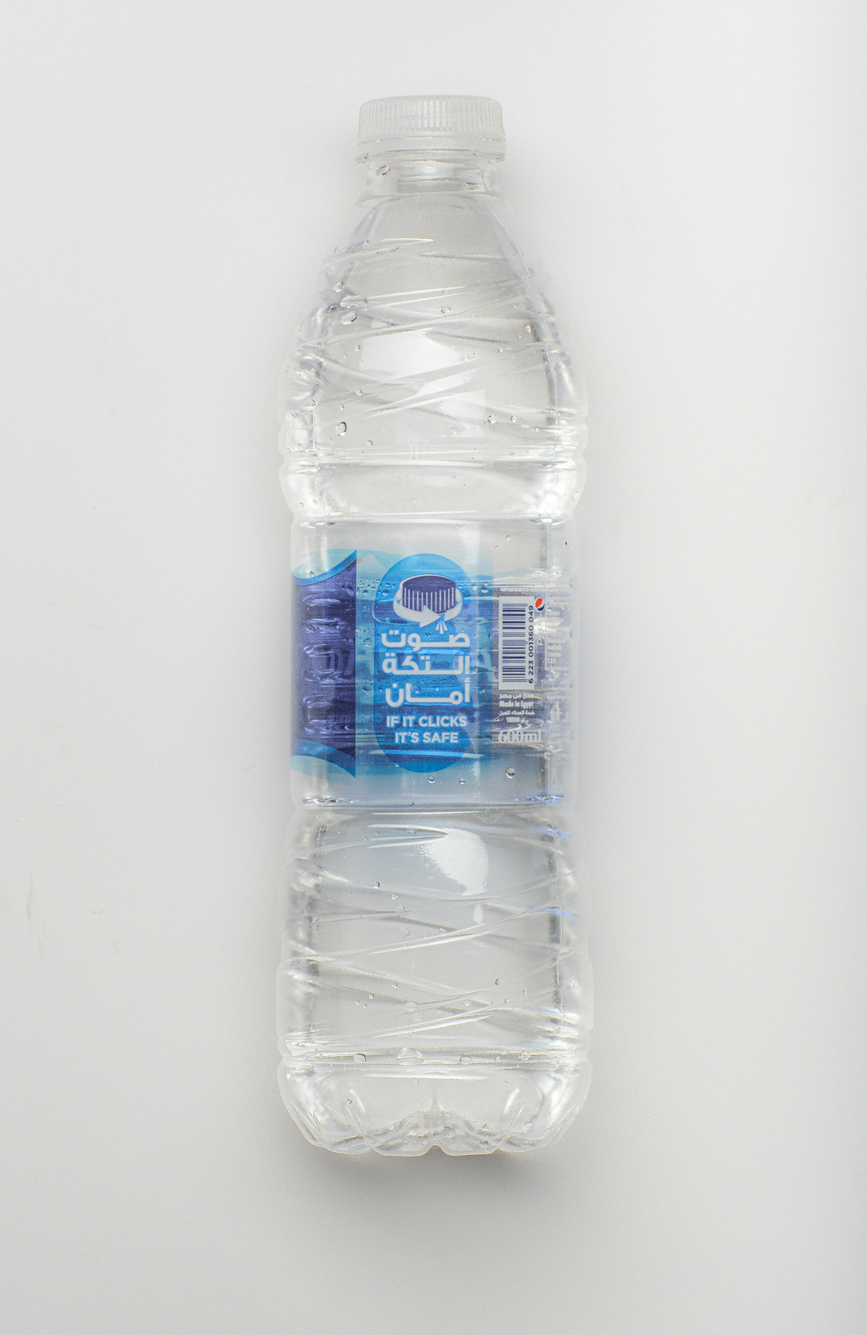Bottle-Detection: (173, 53, 669, 1210)
